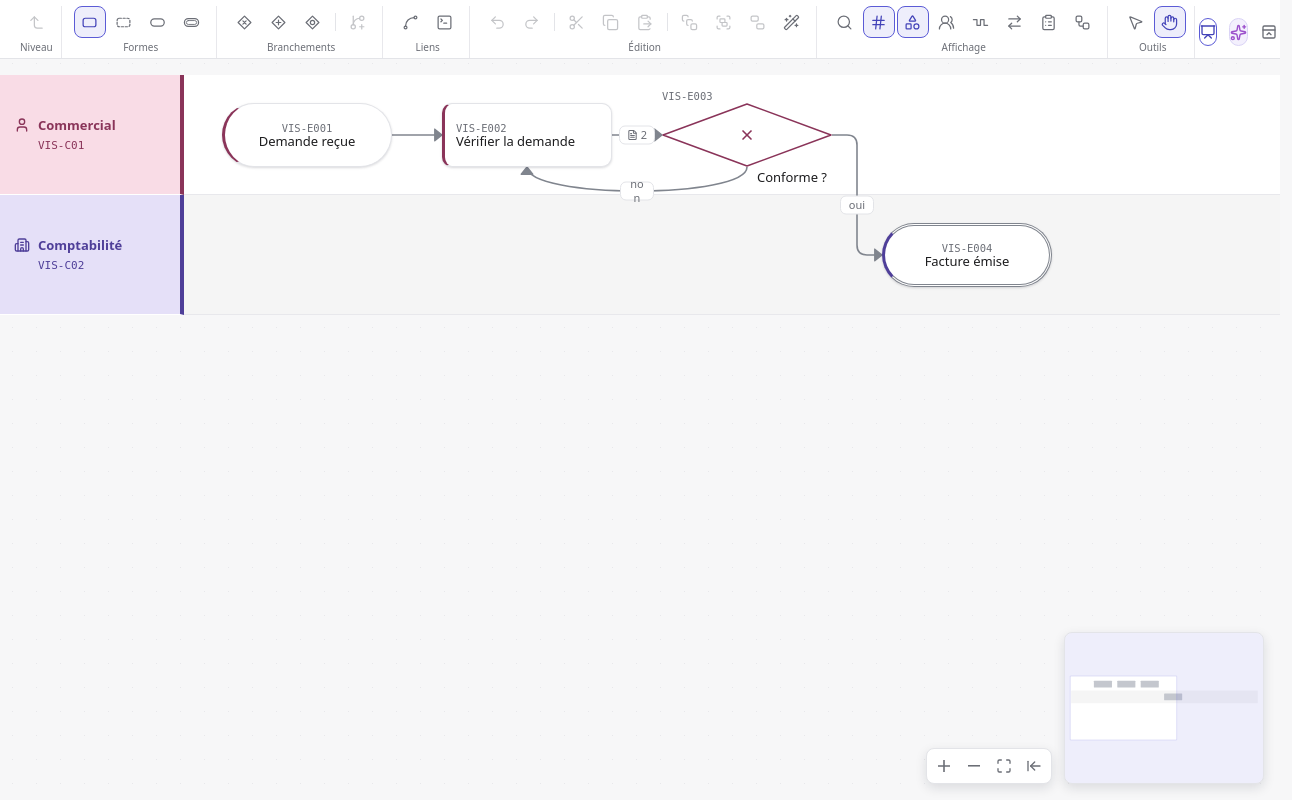
the filters and the sorts (ADR 112 point 5) › open is pressed at first; late and without action narrow the list and 2 of 3 is said
Step 1. Click the button with test id "ribbon-plan" → point(1049, 22), box [1033,6,1065,38]
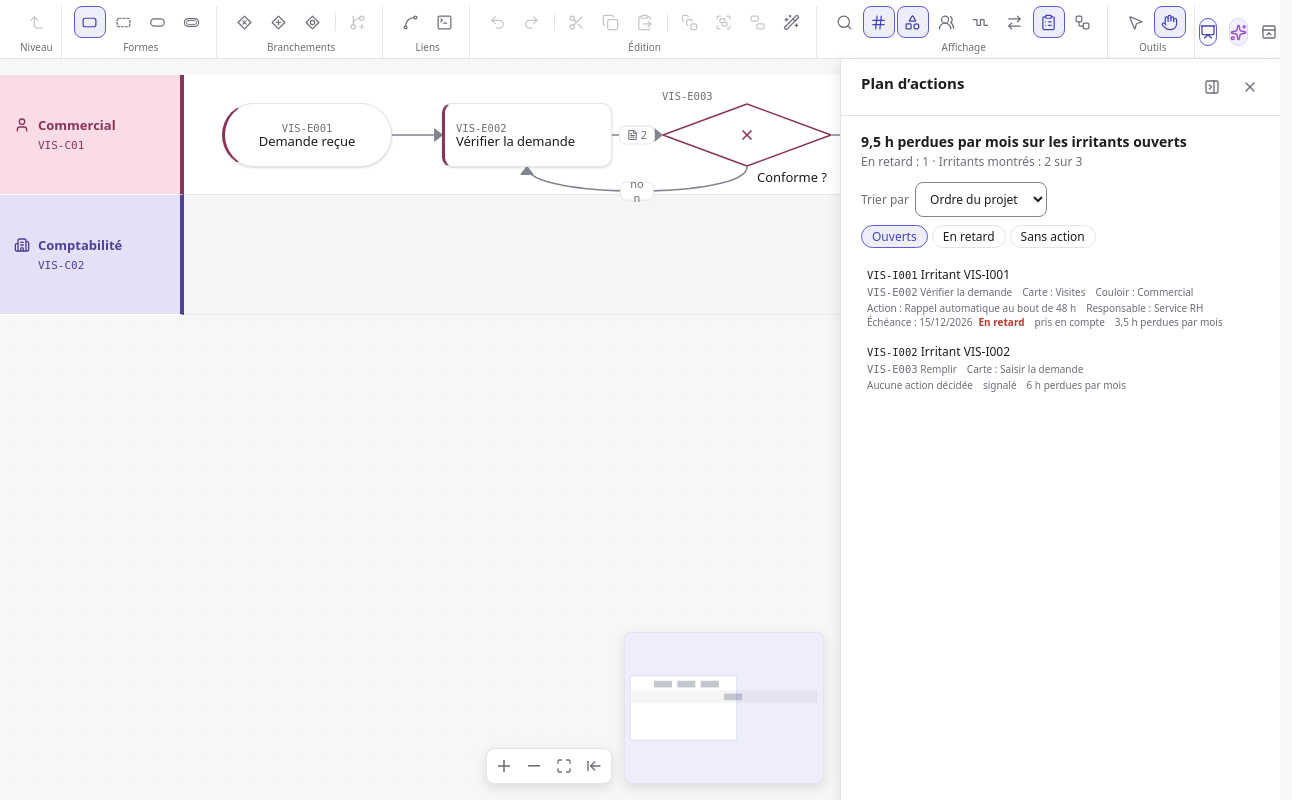
Expected: the message reads "En retard : 1 · Irritants montrés : 2 sur 3", [861,153,1082,170]
Step 2. Click the button "En retard" → point(969, 236), box [932,225,1006,248]
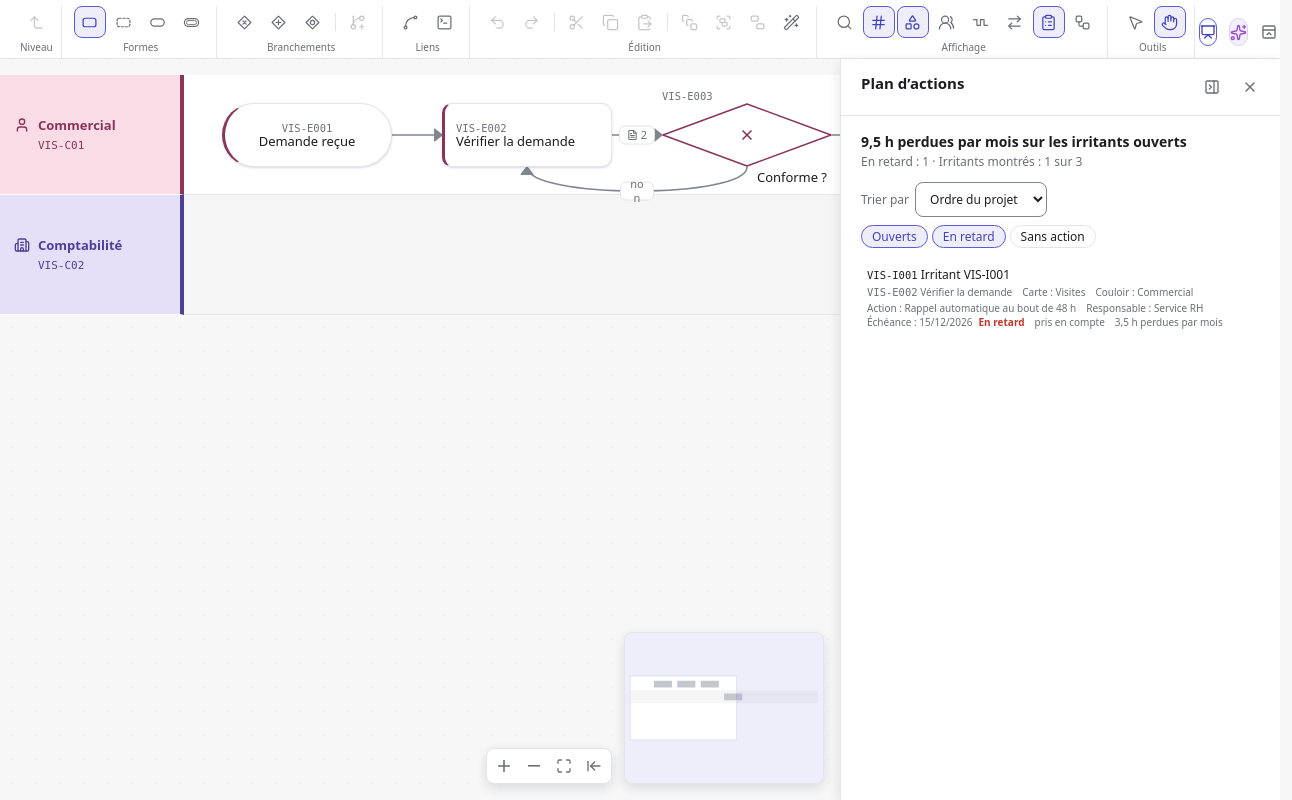
Expected: the message shows "Irritants montrés : 1 sur 3", [939,153,1082,170]
Step 3. Click the button "En retard" → point(969, 236), box [932,225,1006,248]
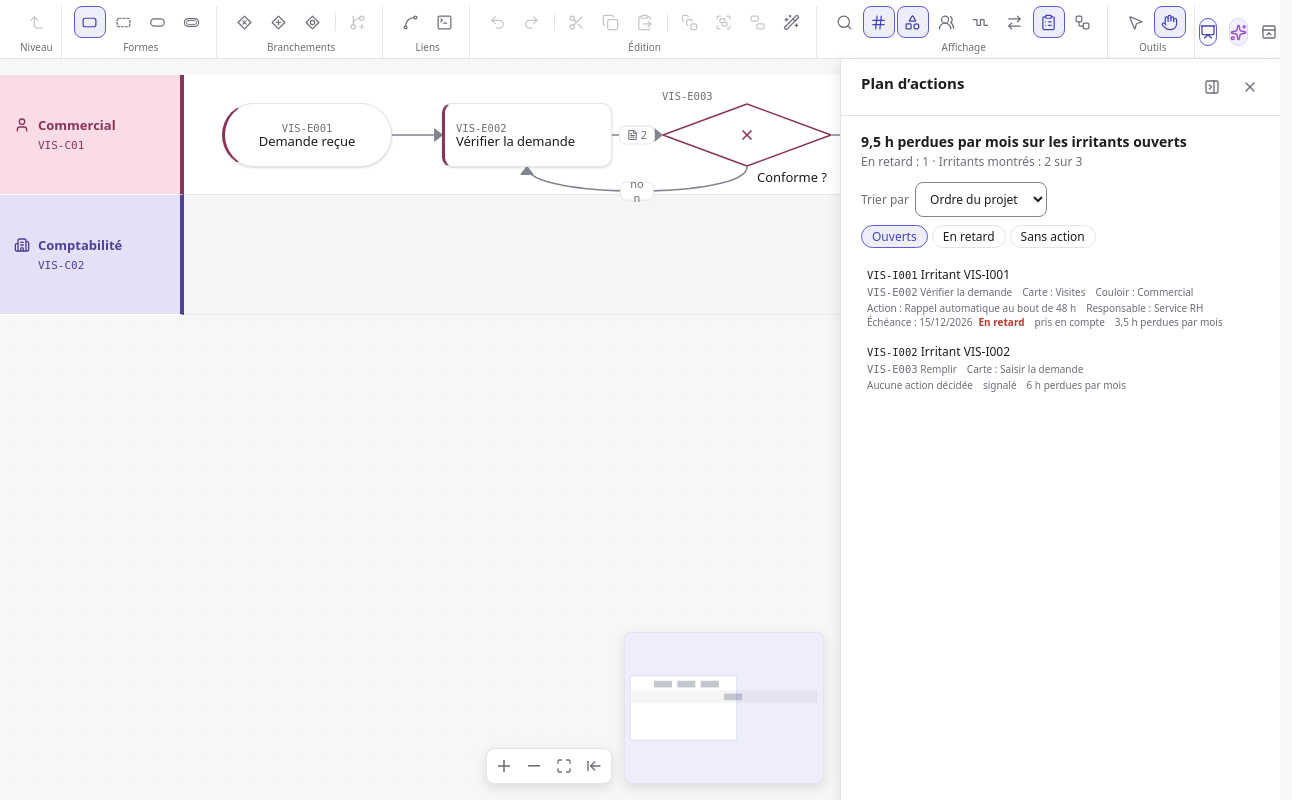
Step 4. Click the button "Sans action" → point(1053, 236), box [1010,225,1096,248]
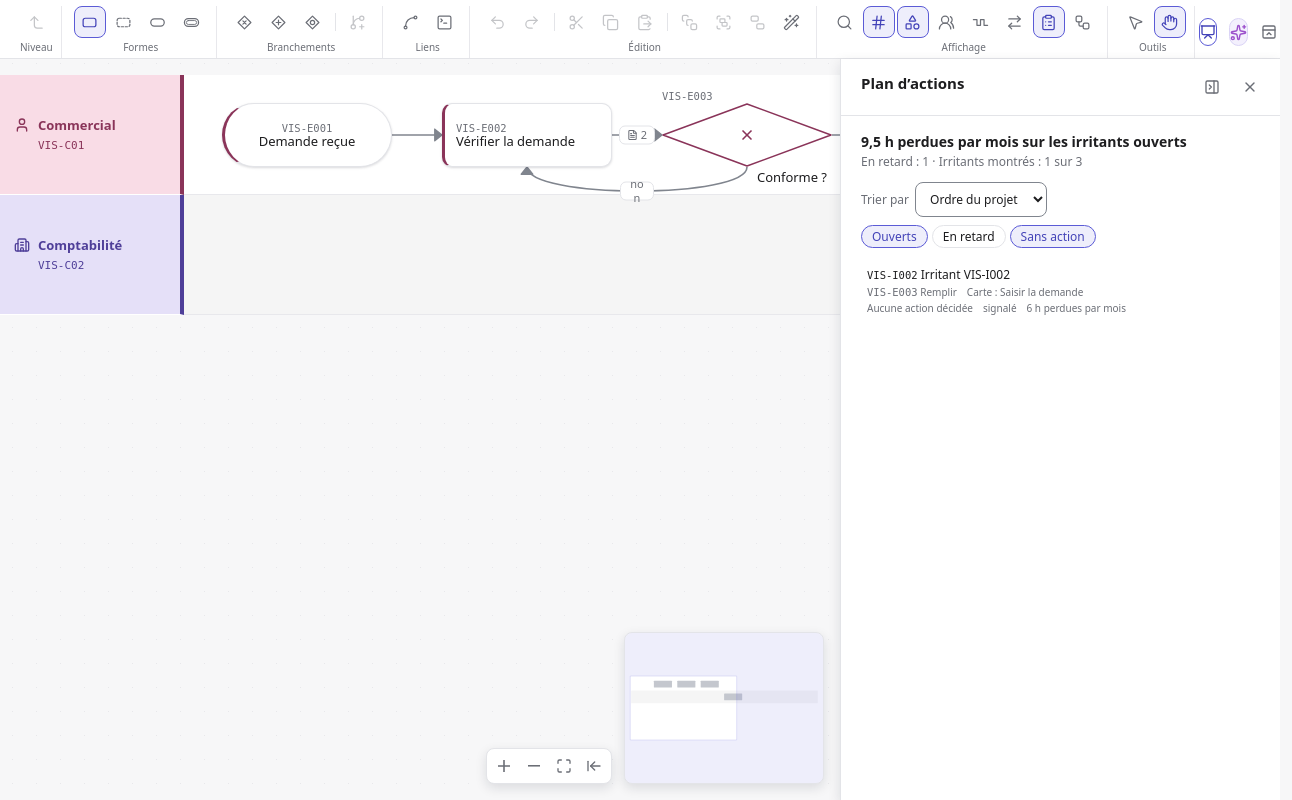
Step 5. Click the button "En retard" → point(969, 236), box [932,225,1006,248]
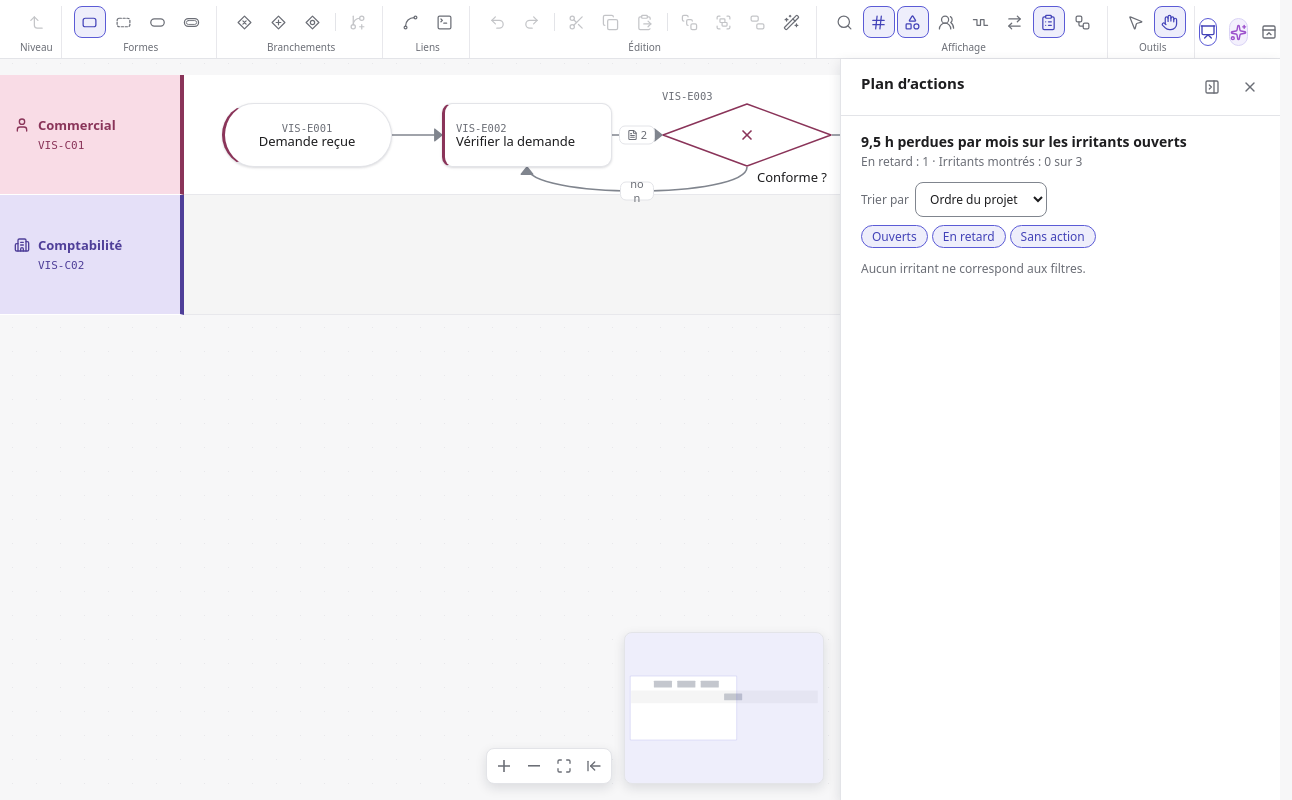
Expected: the element with test id "plan-panel" shows "Aucun irritant ne correspond aux filtres.", [861,260,1086,277]
Expected: the message shows "Irritants montrés : 0 sur 3", [939,153,1082,170]
